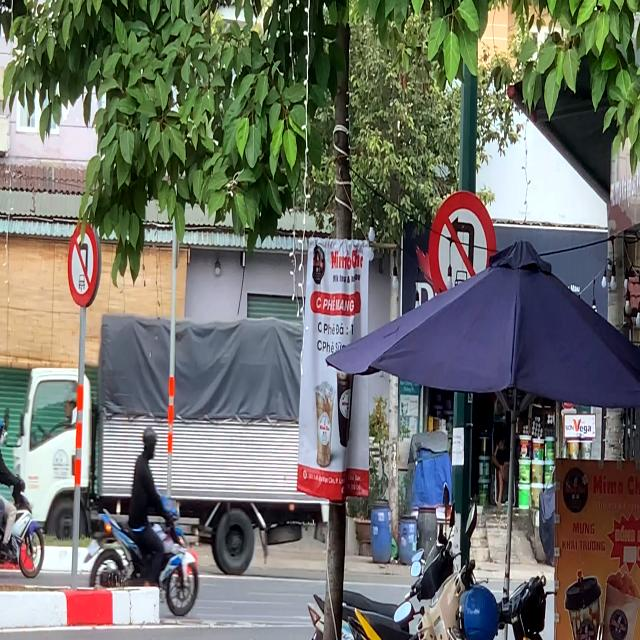P.103c: (67, 221, 99, 312)
